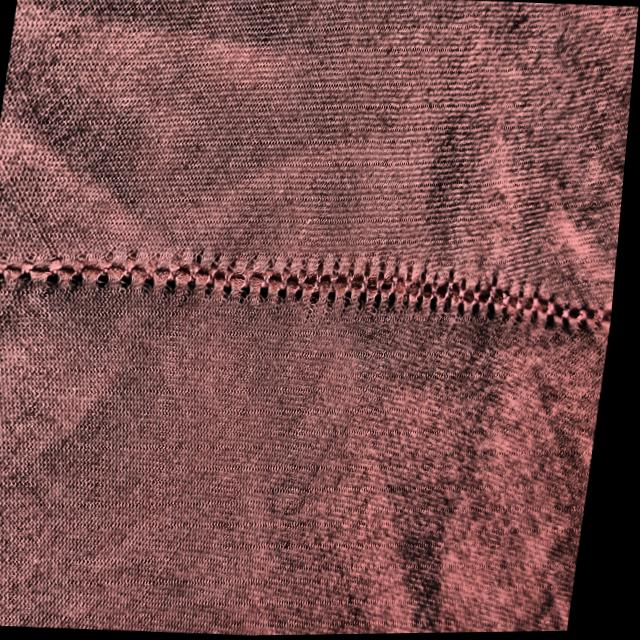seam: (68, 220, 590, 352)
